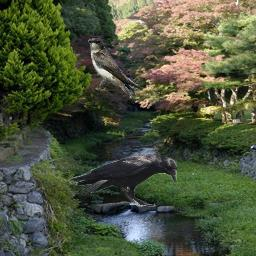Crow: (68, 153, 177, 207)
Swallow: (88, 38, 144, 99)
